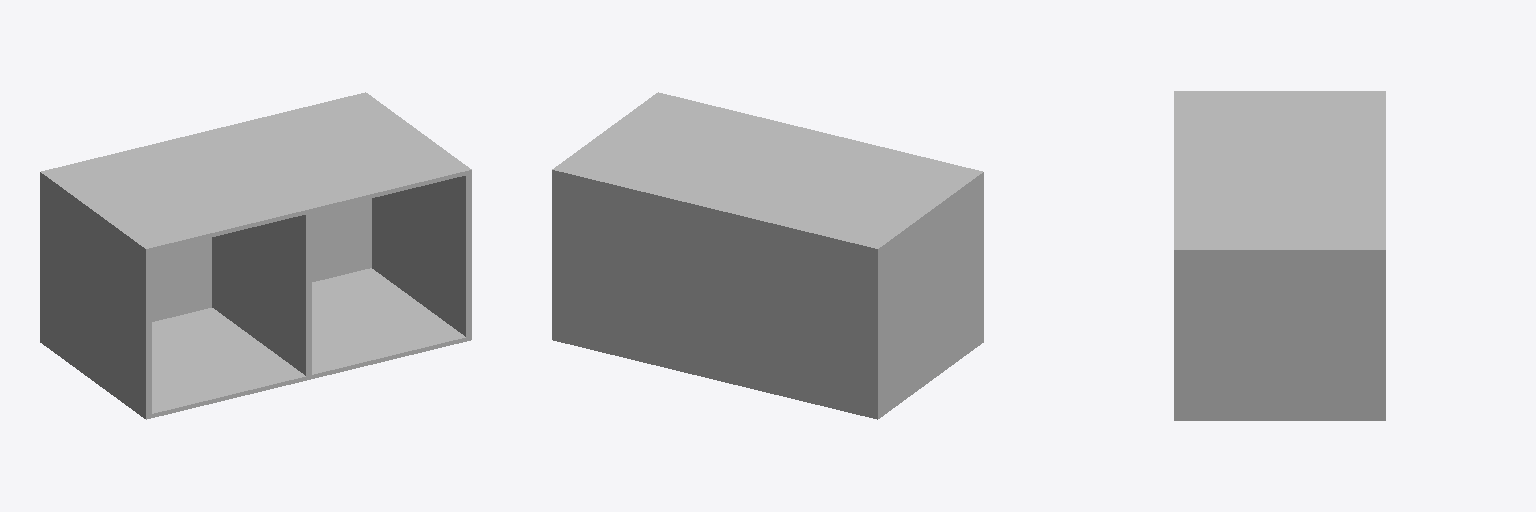
The model's file is house54.obj.
3 renders of one model, left to right at view 1: azimuth 30°, elevation 25°; view 2: azimuth 150°, elevation 25°; view 3: azimuth 270°, elevation 25°, orthographic.
Visible parts, largest first — view 1: 立方体.080; view 2: 立方体.080; view 3: 立方体.080.
Part boxes in pixels (x1,y1,x2,y2): 立方体.080: (40, 92, 471, 419); 立方体.080: (552, 92, 983, 419); 立方体.080: (1174, 91, 1385, 420).
Size of the model in its own units: 16 by 8 by 9.